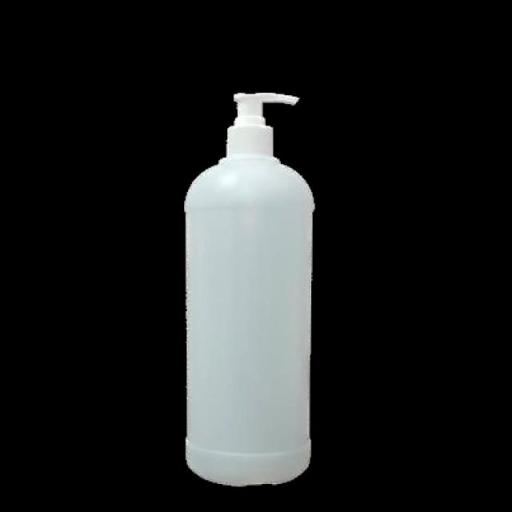plastic: (176, 84, 317, 487)
